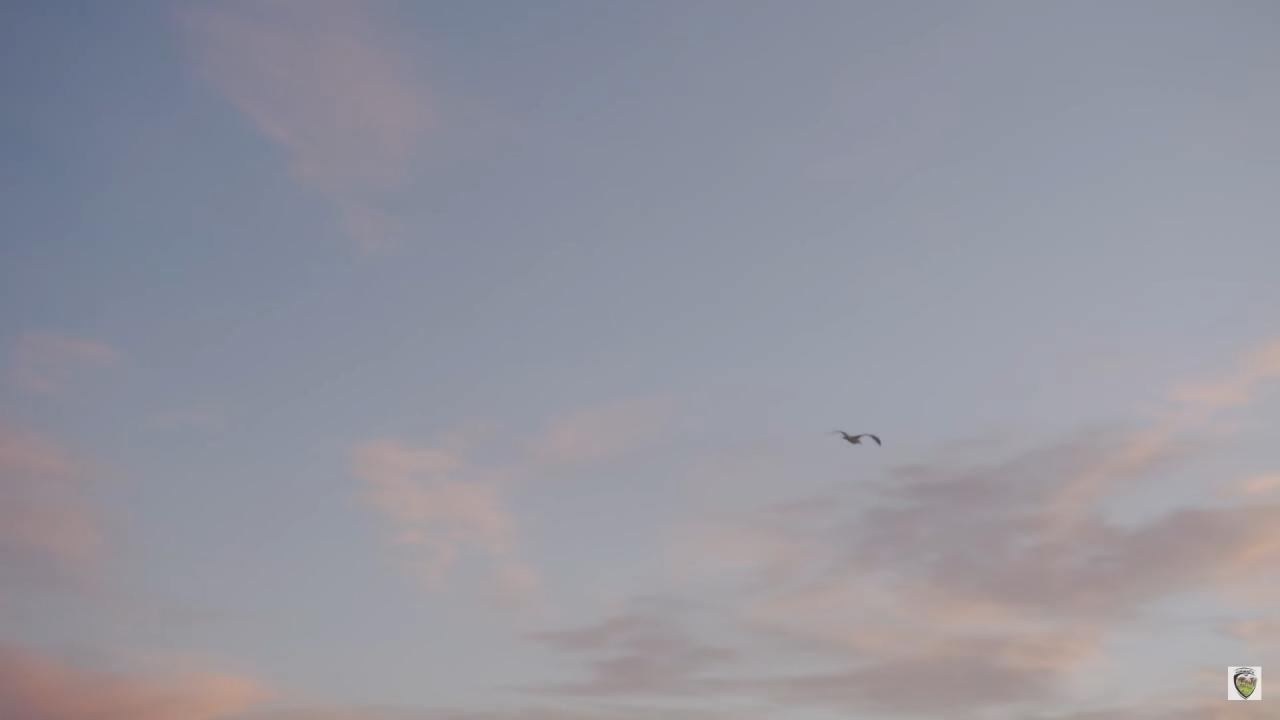Bird: (818, 416, 891, 464)
